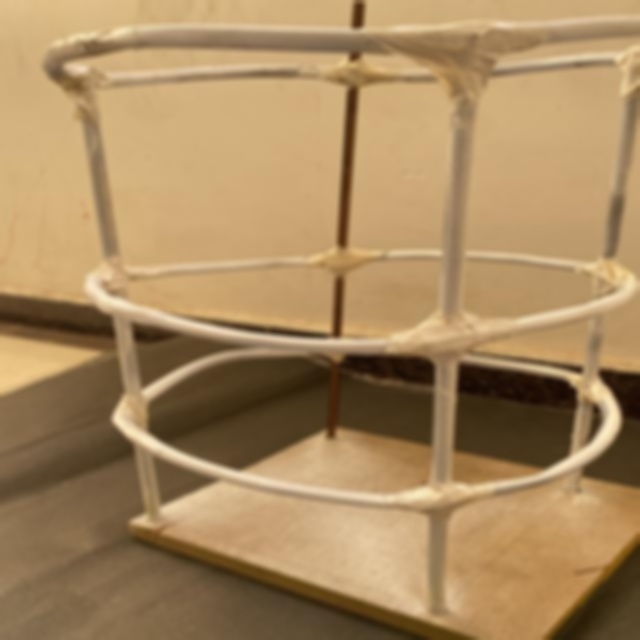silo: (6, 5, 626, 634)
